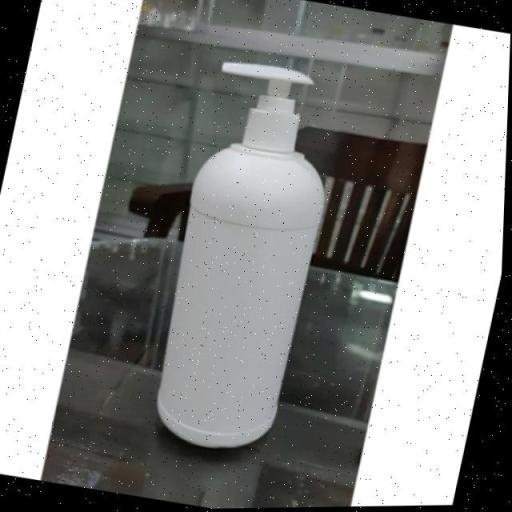plastic: (159, 62, 326, 451)
